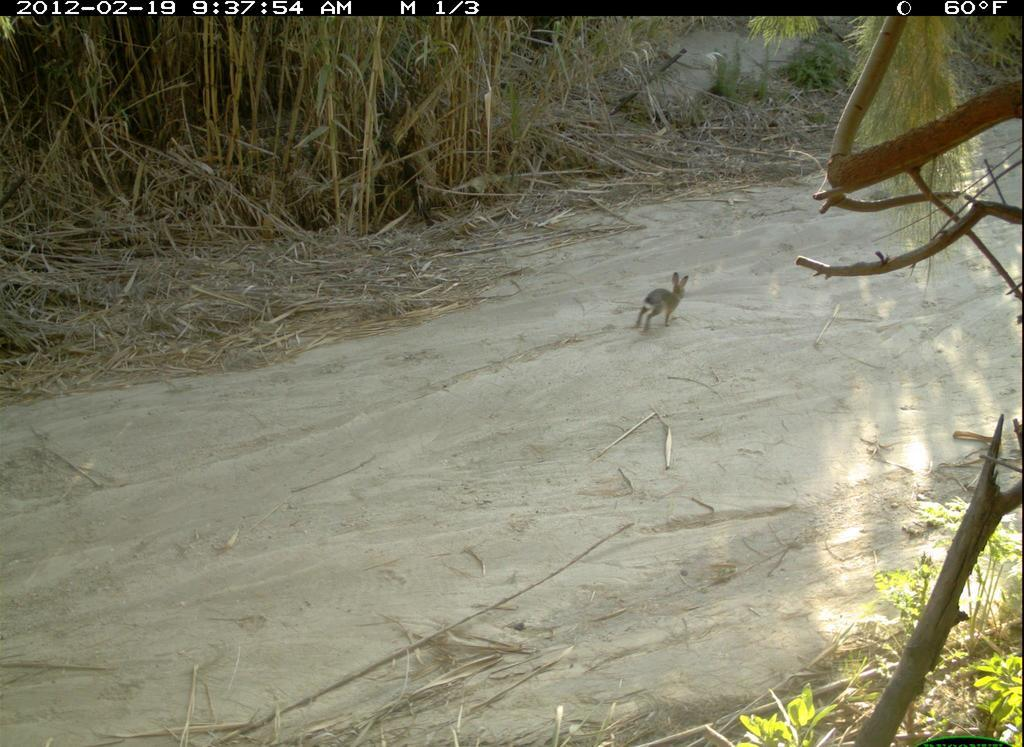rabbit: (629, 268, 692, 333)
